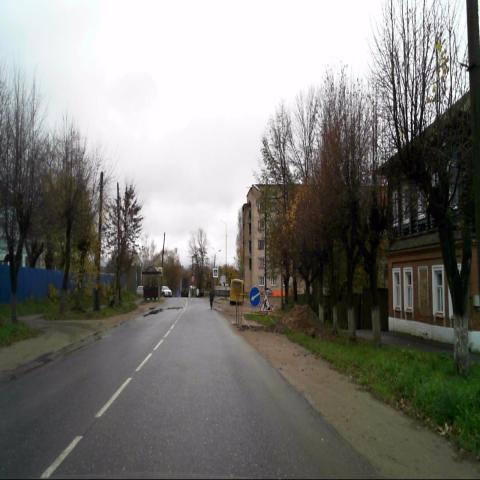1_25: (259, 292, 272, 313)
